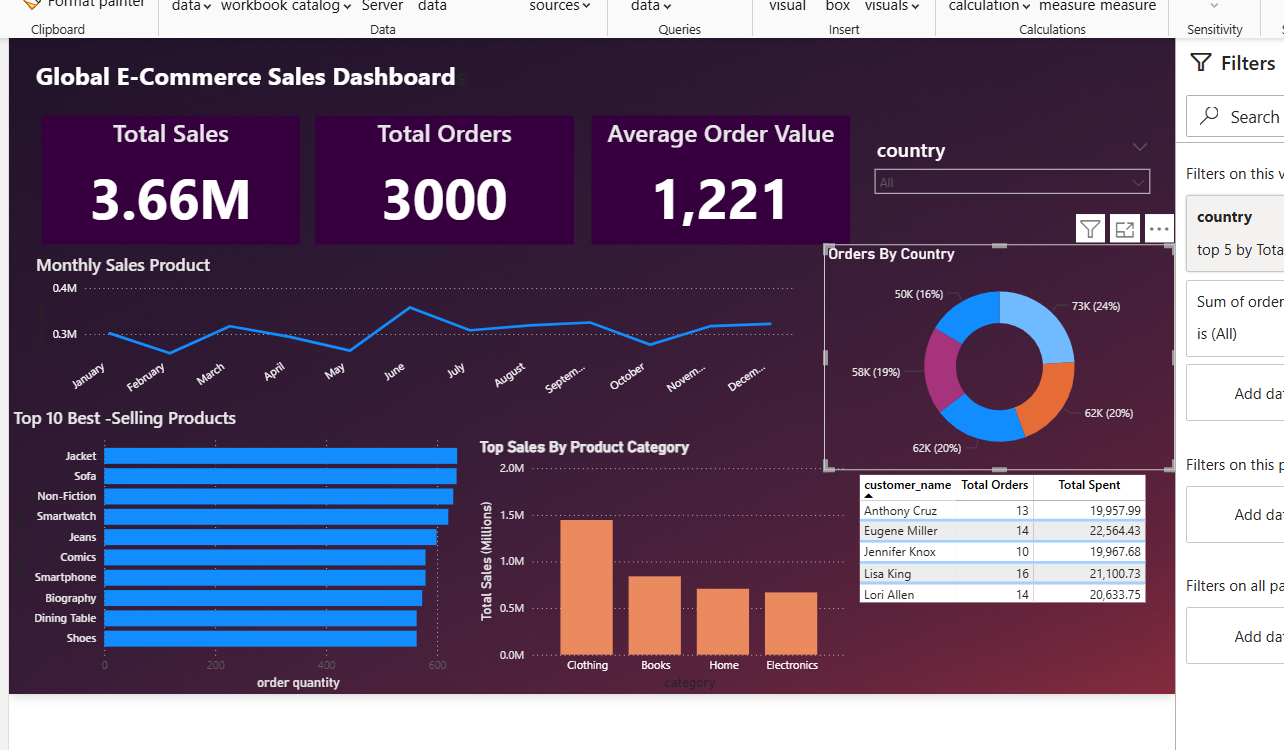

The page's visual inventory and layout, read from the dashboard file:
{"tool":"powerbi","page":{"name":"Page 1","canvas":[1280,720],"ordinal":0},"visuals":[{"type":"textbox","box":[24.7,17.8,521.4,56.3],"z":0},{"type":"card","title":"Total Sales","fields":{"Values":["global_ecommerce.Total Sales"]},"box":[35.7,85.1,284,141.3],"z":1000},{"type":"card","title":"Total Orders","fields":{"Values":["global_ecommerce.Total Orders"]},"box":[336.2,85.1,284,141.3],"z":2000},{"type":"card","title":"Average Order Value","fields":{"Values":["global_ecommerce.Average Order Value"]},"box":[639.5,85.1,284,141.3],"z":3000},{"type":"clusteredBarChart","title":"Top 10 Best -Selling Products","fields":{"Category":["global_ecommerce.product_name"],"Y":["global_ecommerce.order quantity"]},"box":[0,403.4,546.1,317],"z":4000},{"type":"columnChart","title":"Top Sales By Product Category","fields":{"Category":["global_ecommerce.category"],"Y":["global_ecommerce.Total Sales"]},"box":[511.8,437.7,413,282.7],"z":5000},{"type":"donutChart","title":"Orders By Country","fields":{"Category":["global_ecommerce.country"],"Y":["global_ecommerce.order_id"]},"box":[894.7,226.4,385.6,248.4],"z":6000},{"type":"tableEx","fields":{"Values":["global_ecommerce.customer_name","global_ecommerce.Total Orders","global_ecommerce.Total Spent"]},"box":[927.6,474.8,334.8,233.3],"z":7000},{"type":"slicer","fields":{"Values":["global_ecommerce.country"]},"box":[940,102.9,322.5,102.9],"z":8000},{"type":"lineChart","title":"Monthly Sales Product","fields":{"Category":["global_ecommerce.order_date.Variation.Date Hierarchy.Month"],"Y":["global_ecommerce.Total Sales"]},"box":[24.7,236,842.5,167.4],"z":9000}]}

Visuals, with their boxes on the page's 1280x720 design canvas (x1, y1, x2, y2). These are canvas units, not pixel positions in the 1284x750 screenshot, which may show the page scaled, cropped or inside an application window:
textbox: locate(25, 18, 546, 74)
"Total Sales" card: locate(36, 85, 320, 226)
"Total Orders" card: locate(336, 85, 620, 226)
"Average Order Value" card: locate(640, 85, 924, 226)
"Top 10 Best -Selling Products" clusteredBarChart: locate(0, 403, 546, 720)
"Top Sales By Product Category" columnChart: locate(512, 438, 925, 720)
"Orders By Country" donutChart: locate(895, 226, 1280, 475)
tableEx - global_ecommerce.customer_name x global_ecommerce.Total Orders: locate(928, 475, 1262, 708)
slicer - global_ecommerce.country: locate(940, 103, 1262, 206)
"Monthly Sales Product" lineChart: locate(25, 236, 867, 403)
